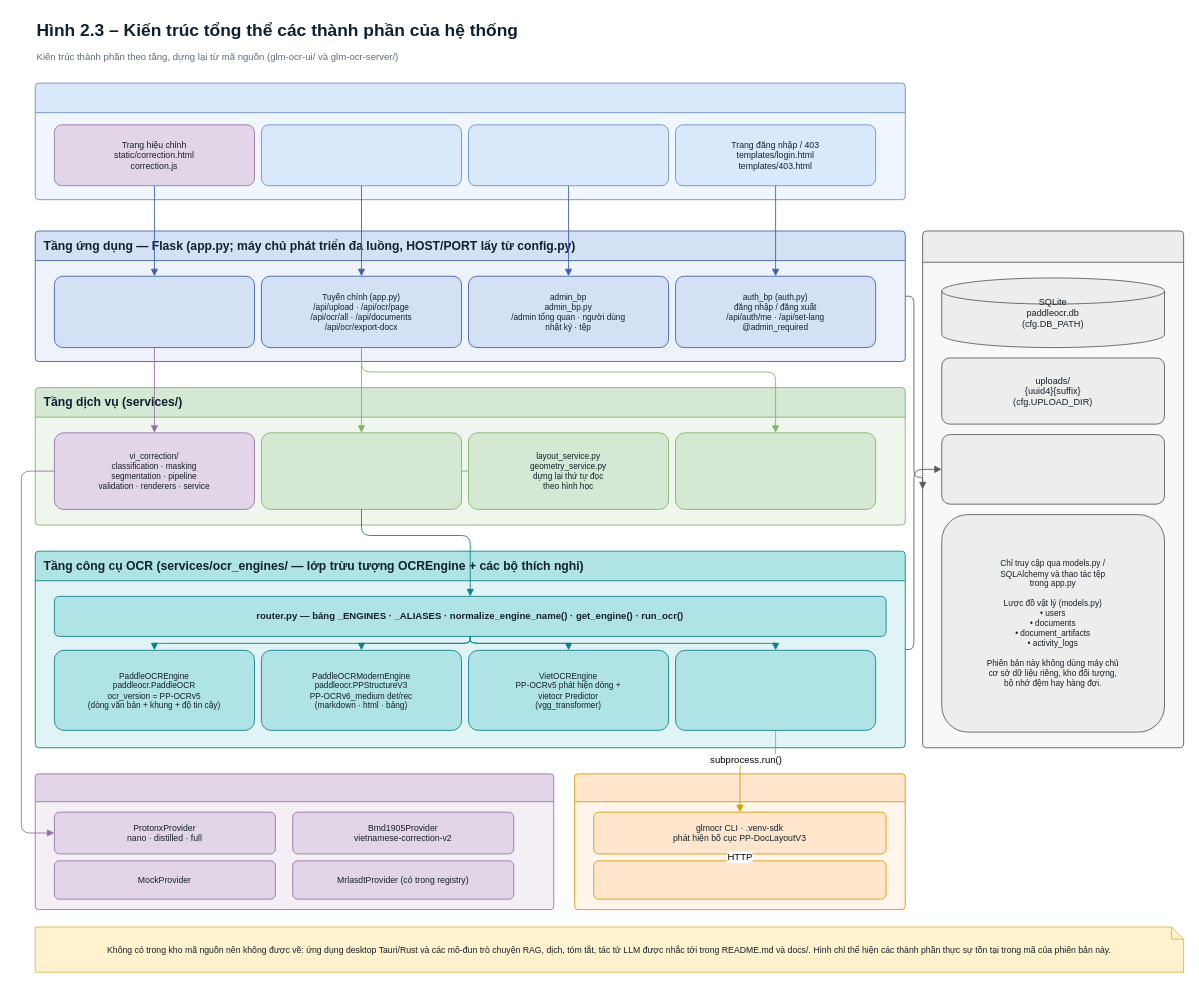
The diagram is 1199 pixels wide and 987 high, and some of its shapes have lost their labels. The box of each missing label's shape, as (x1, y1, x2, y2) in pixels:
Bộ cung cấp mô hình hiệu chỉnh (services/vi_correction/providers/): (34, 773, 554, 910)
correction_bp correction_bp.py /correction /api/correction/*: (54, 275, 254, 348)
GLMOCREngine GLMVietOCREngine gọi tiến trình con (kết quả có sẵn bố cục): (675, 649, 876, 730)
models/ + bộ nhớ đệm HF (cfg.MODEL_DIR; OFFLINE=1 chặn tải về): (941, 434, 1164, 504)
Máy chủ MLX :8080 · .venv-mlx mlx-community/GLM-OCR-bf16: (593, 860, 886, 899)
ocr_service.py smart_ocr_service.py chuẩn hóa khối, vẽ ảnh phủ vùng nhận dạng: (261, 432, 462, 509)
SPA SmartDocs static/index.html · app.js ocr-canvas.js · i18n.js: (261, 124, 462, 186)
text_service.py markdown_normalize.py activity_registry.py cpu_threads.py: (675, 432, 876, 509)
Tiến trình bên ngoài (Apple Silicon): (574, 773, 905, 910)
Trang quản trị (Jinja) templates/admin/ base·dashboard·users·logs·files: (468, 124, 669, 186)
Tầng dữ liệu: (922, 230, 1184, 748)
Tầng giao diện (trình duyệt): (34, 82, 905, 200)
